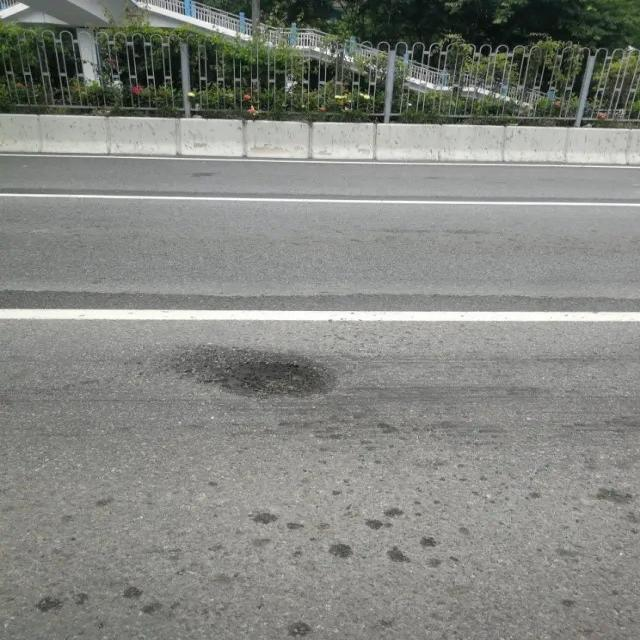Pothole: (172, 343, 343, 401)
